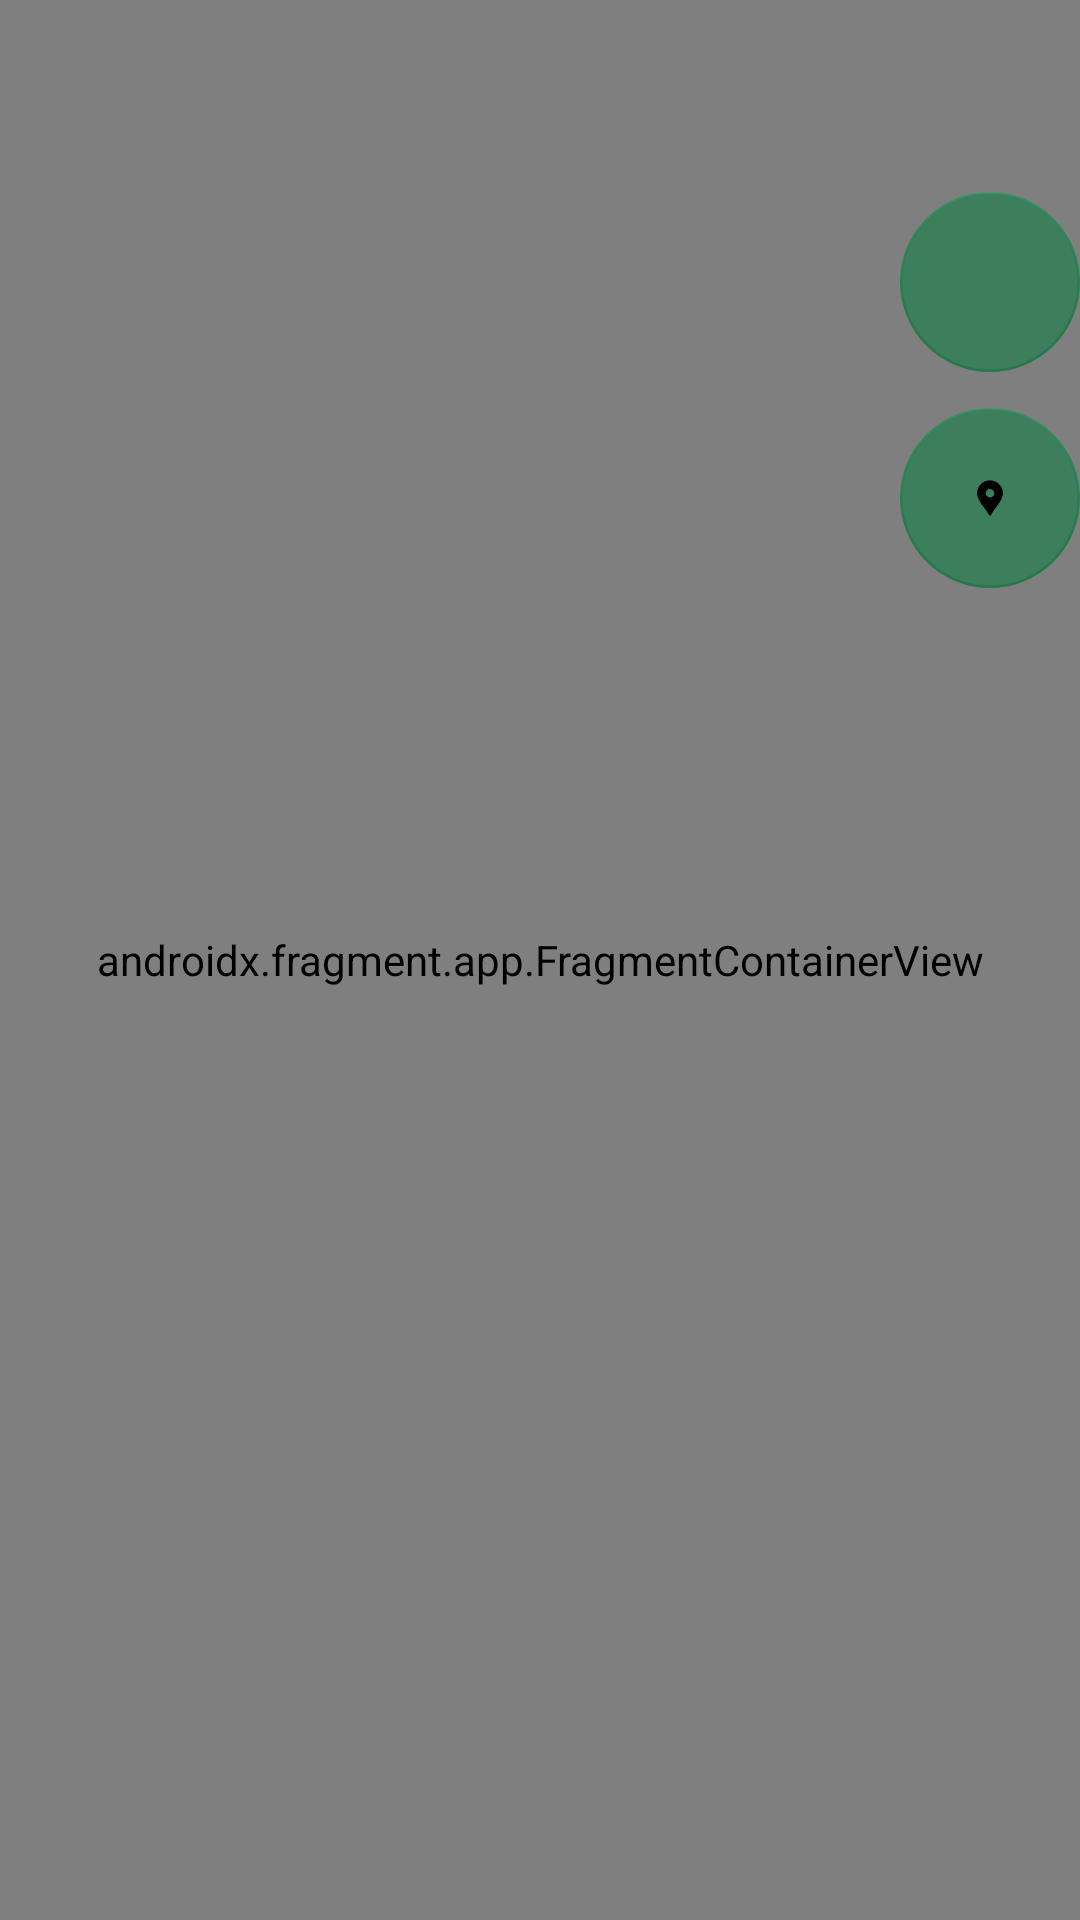

Icon bounding boxes for this 1080w x 1920h phone screenshot, format (x1, y1, x2, y2):
Button that opens nearby codes: (900, 408, 1080, 588)
